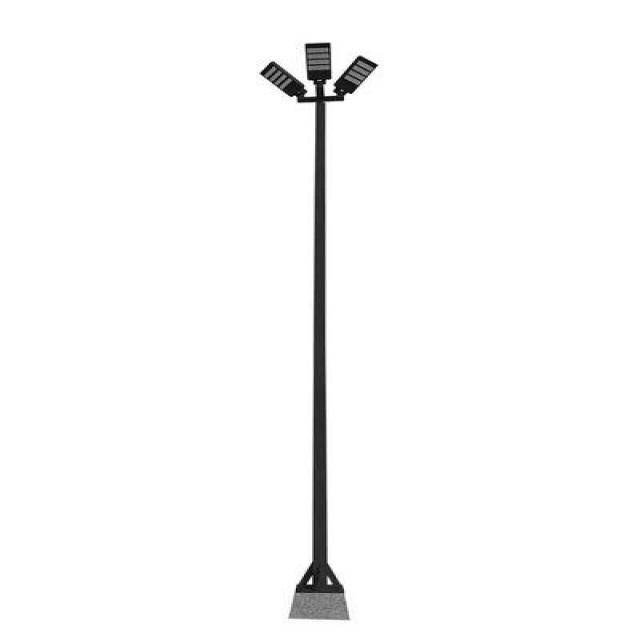Pole: (260, 43, 378, 620)
